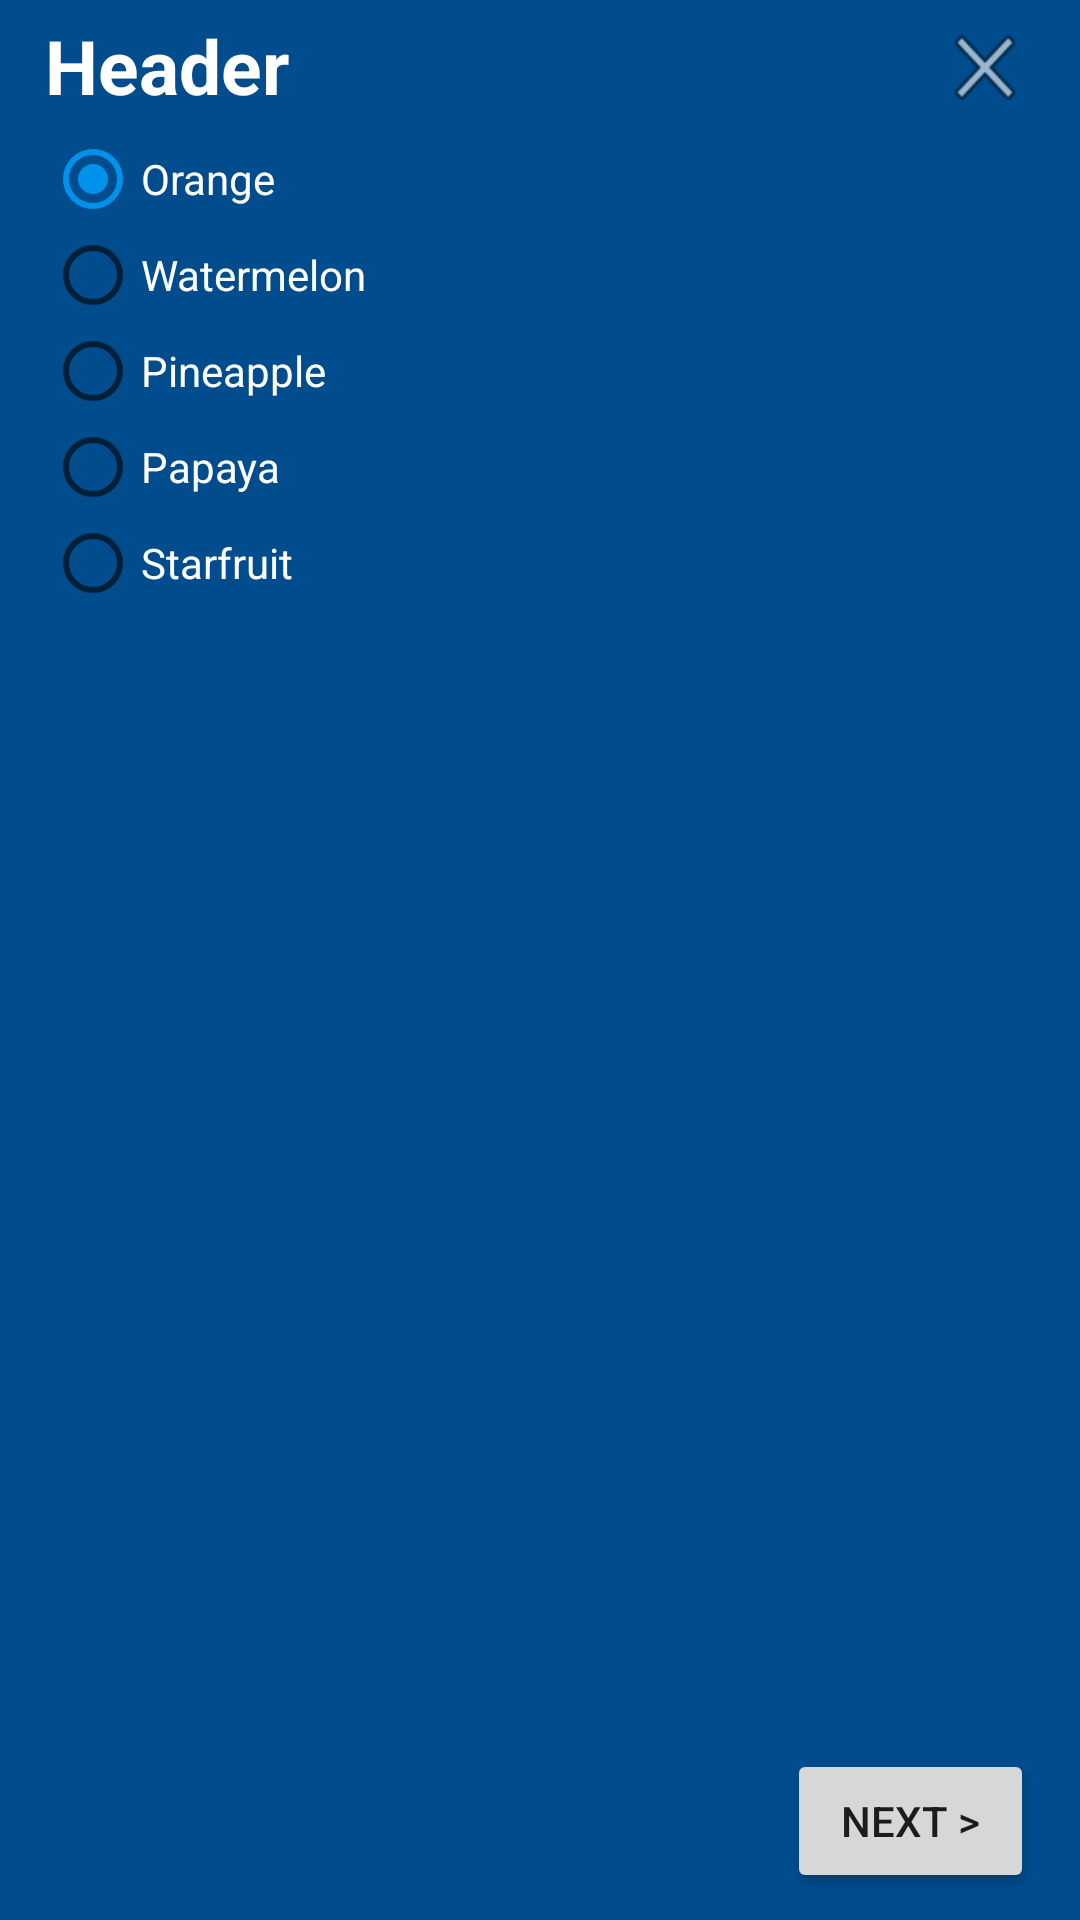

Icons on this 1080 × 1920 Android screen, each with its box as {"left": x1, "top": y1, "right": x2, "bottom": y2}:
close clear cancel: {"left": 955, "top": 35, "right": 1015, "bottom": 100}
